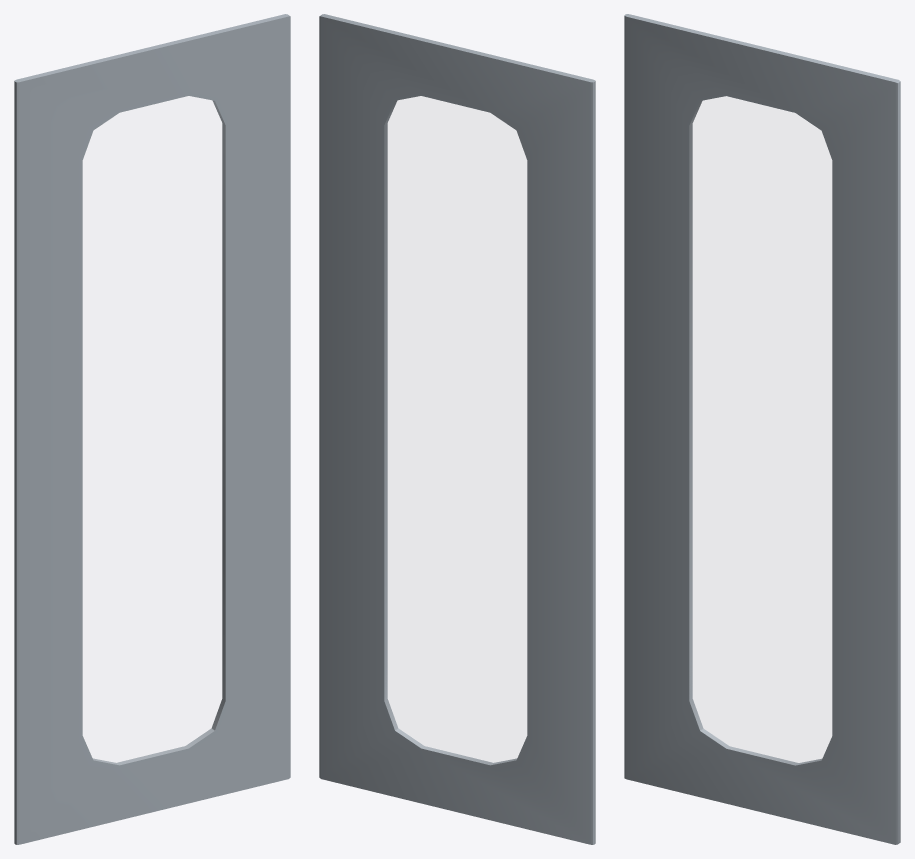
File: PT_INNER_DOOR1.fbx
3 renders of one model, left to right at view 1: azimuth 30°, elevation 25°; view 2: azimuth 150°, elevation 25°; view 3: azimuth 330°, elevation 25°, orthographic.
Parts seen in each view (by area): view 1: PT_INNER_DOOR1; view 2: PT_INNER_DOOR1; view 3: PT_INNER_DOOR1.
Boxes of the visible parts, left/top/right/bottom form: PT_INNER_DOOR1: left=14, top=14, right=290, bottom=844; PT_INNER_DOOR1: left=319, top=14, right=595, bottom=844; PT_INNER_DOOR1: left=624, top=14, right=900, bottom=844.
Bounding box in the file's own units: 0.3918 × 1.04 × 0.00861.
Materials: 2 (1 with a texture image).
